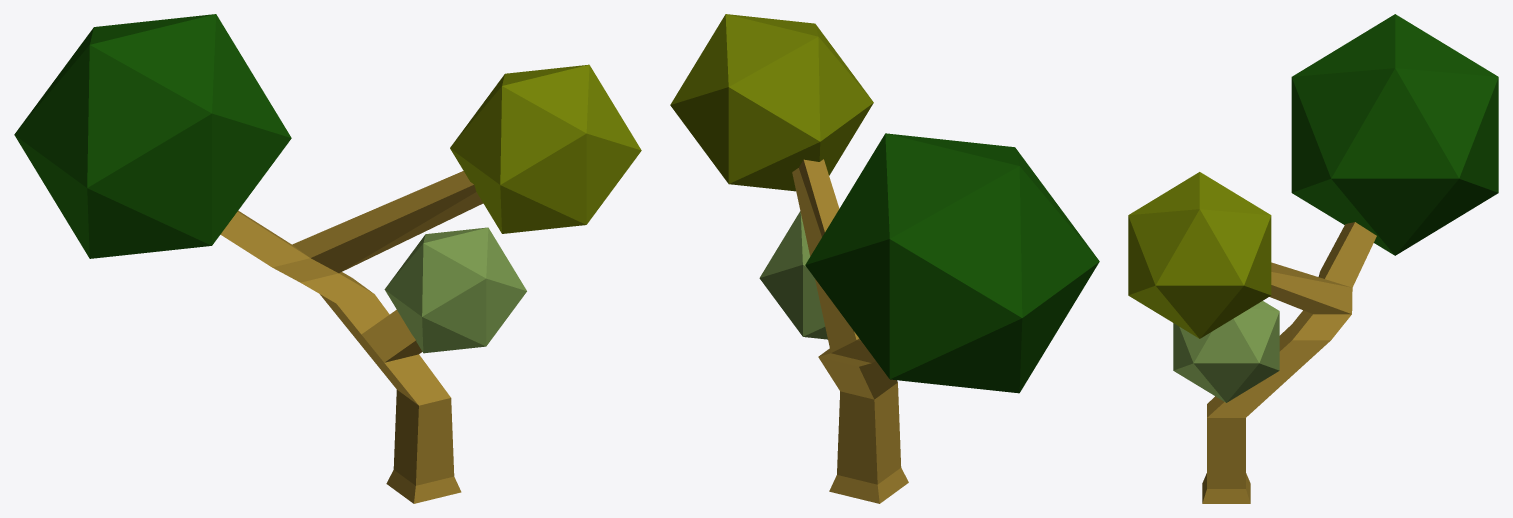
The model's file is DesertTree.fbx.
3 renders of one model, left to right at view 1: azimuth 30°, elevation 25°; view 2: azimuth 150°, elevation 25°; view 3: azimuth 270°, elevation 25°, orthographic. The views are drawn at different scales.
Visible parts, largest first — view 1: Объект_Платоново_тело_3; view 2: Объект_Платоново_тело_3; view 3: Объект_Платоново_тело_3.
Boxes of the visible parts, bbox=[...] form: Объект_Платоново_тело_3: bbox=[14, 14, 641, 503]; Объект_Платоново_тело_3: bbox=[670, 14, 1099, 503]; Объект_Платоново_тело_3: bbox=[1128, 14, 1498, 503].
Bounding box in the file's own units: 2366 × 2144 × 1906.
